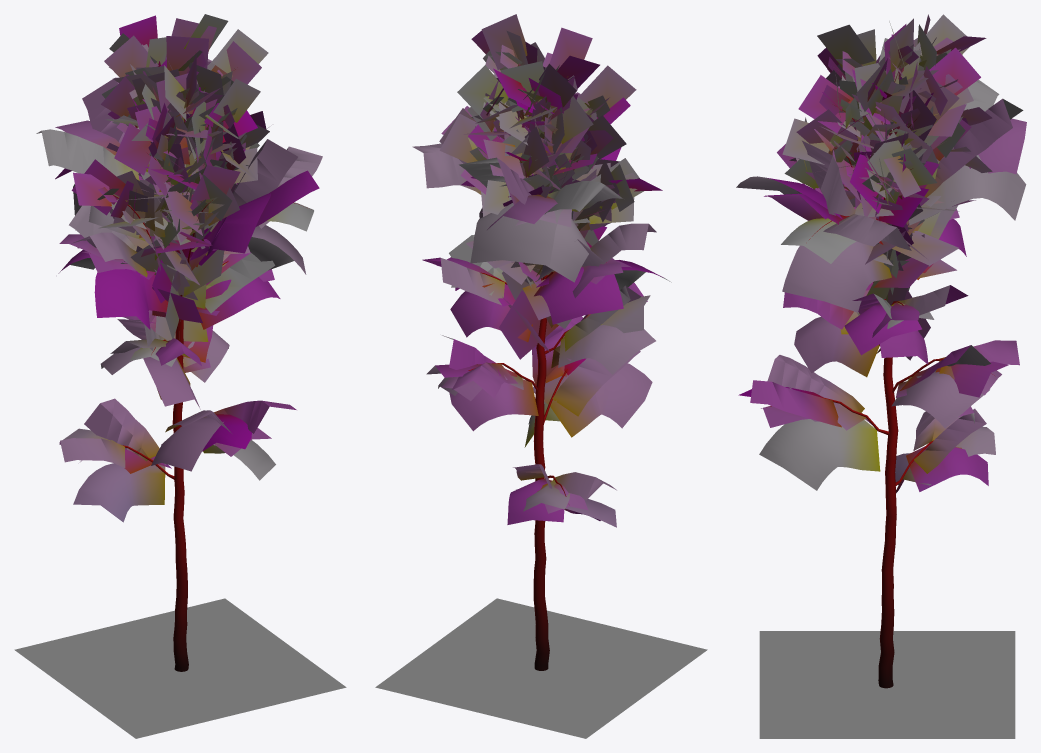
The model's file is TestScene.gltf.
The picture shows the model from 3 angles, left to right: view 1: azimuth 30°, elevation 25°; view 2: azimuth 150°, elevation 25°; view 3: azimuth 270°, elevation 25°; orthographic projection. The views are drawn at different scales.
Parts seen in each view (by area): view 1: ForestTree03LOD0, Ground; view 2: ForestTree03LOD0, Ground; view 3: ForestTree03LOD0, Ground.
Part boxes in pixels (x1,y1,x2,y2): ForestTree03LOD0: [36, 14, 322, 671]; Ground: [14, 598, 346, 738]; ForestTree03LOD0: [412, 14, 671, 670]; Ground: [375, 598, 707, 738]; ForestTree03LOD0: [736, 14, 1026, 688]; Ground: [759, 631, 1015, 738].
Size of what is drawn, in the model's own units: 11.74 by 29.76 by 11.38.
